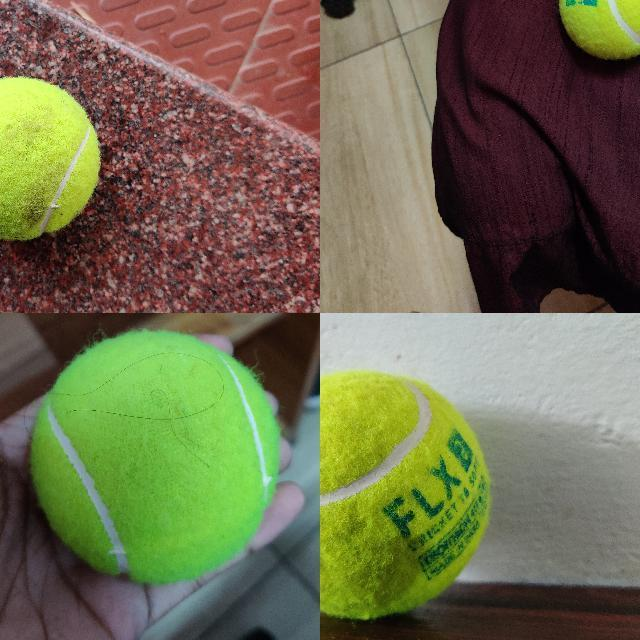tennis-ball: (33, 334, 278, 583), (320, 369, 492, 622), (0, 76, 100, 240), (558, 0, 639, 59)
